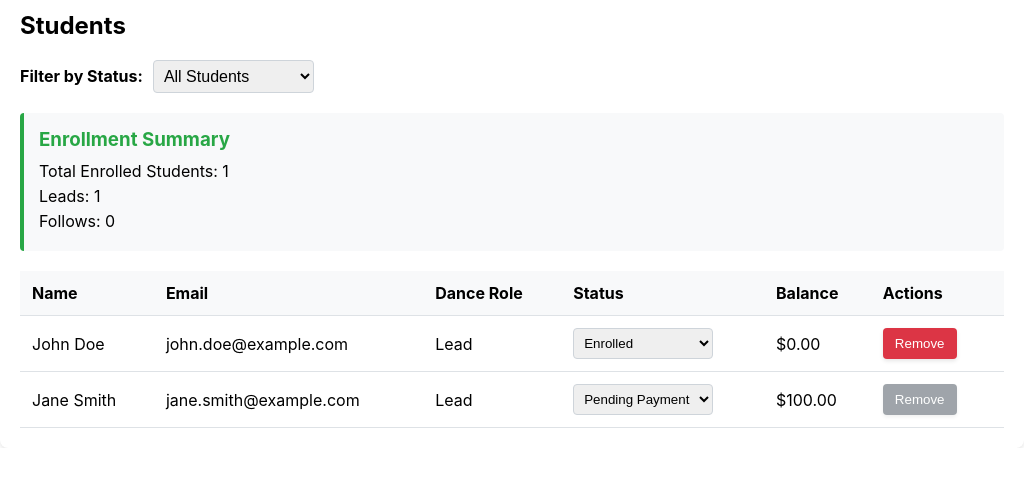
Scenario: StudentList › displays error message when operation fails
// Change status for first student
Select "Inactive" in the dropdown with test id "status-select-student1" at (643, 344), box [573, 328, 713, 359]
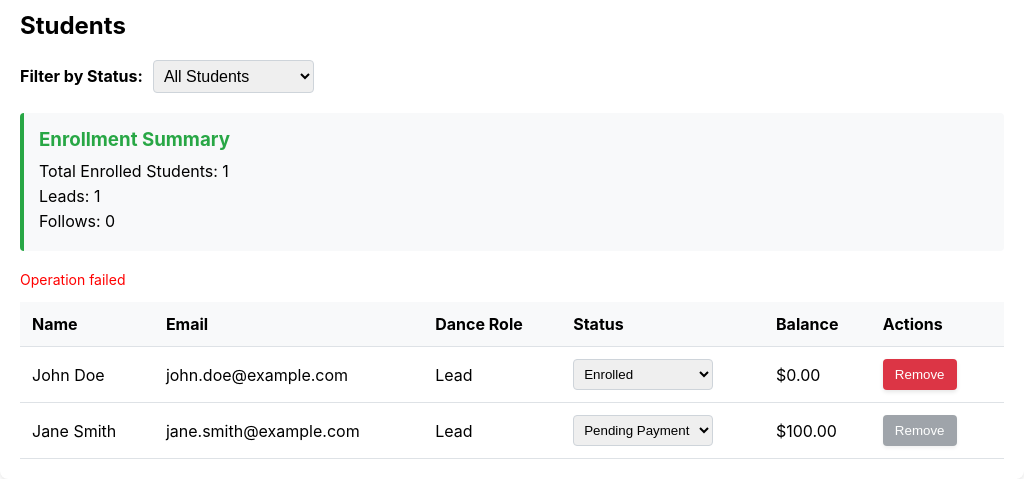
Expected: the text "Operation failed" is shown, [20, 271, 126, 288]
